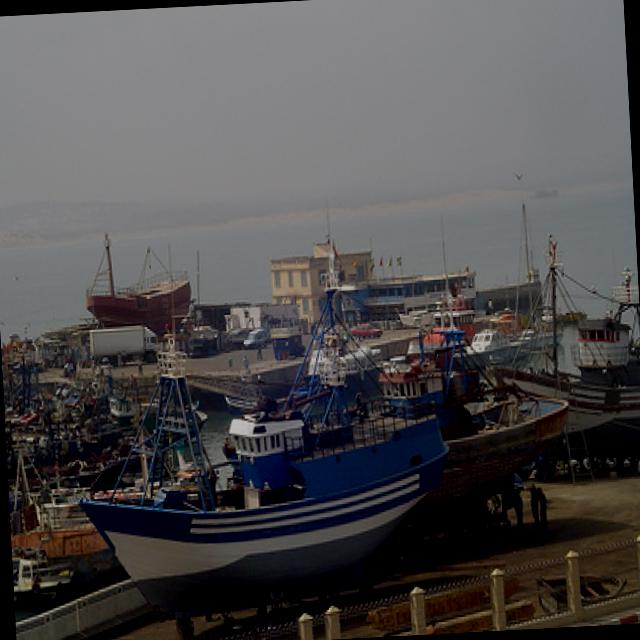Vehicle: (244, 326, 273, 349), (350, 322, 382, 342)
